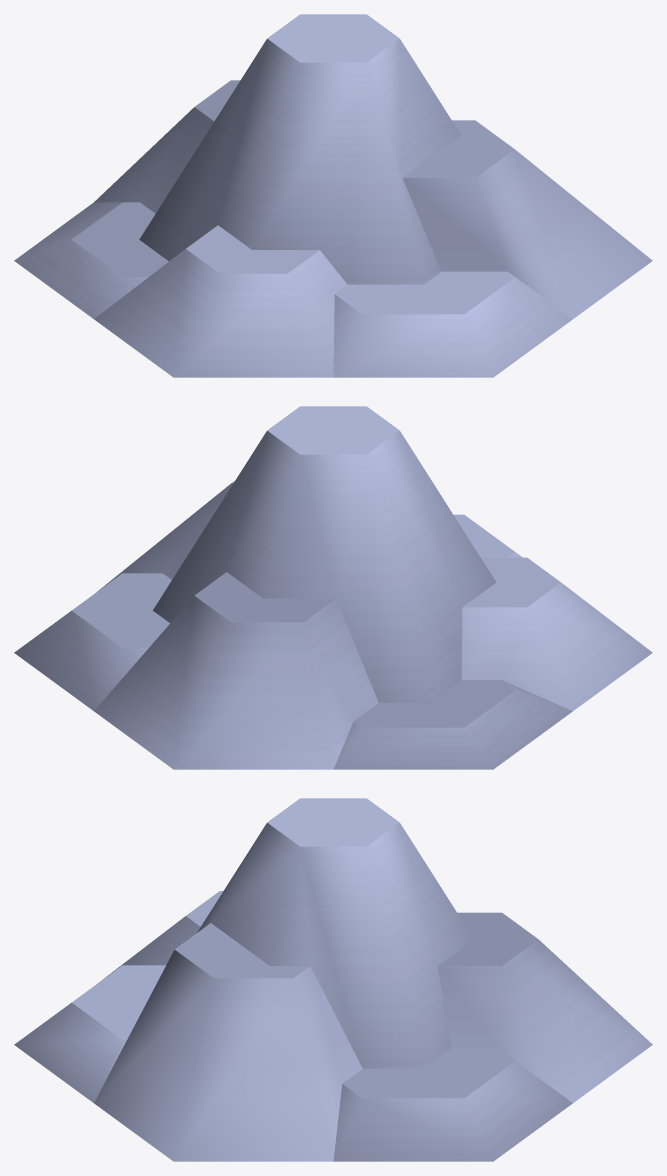
The model's file is mountain_small.fbx.
The picture shows the model from 3 angles, top to bottom: view 1: azimuth 30°, elevation 25°; view 2: azimuth 150°, elevation 25°; view 3: azimuth 270°, elevation 25°; orthographic projection.
Parts seen in each view (by area): view 1: stone_hill; view 2: stone_hill; view 3: stone_hill.
Part boxes in pixels (x1,y1,x2,y2): stone_hill: (14,14,652,377); stone_hill: (14,406,652,769); stone_hill: (14,798,652,1161).
Size of the model in its own units: 100 by 44.32 by 115.
